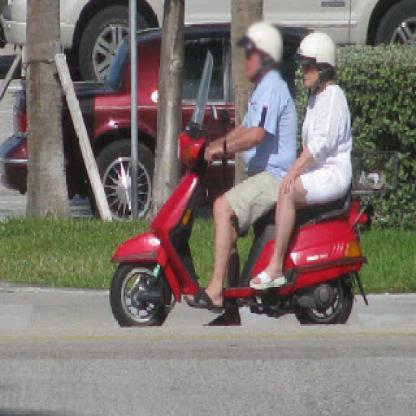Helmet: (236, 20, 286, 86), (293, 32, 343, 96)
